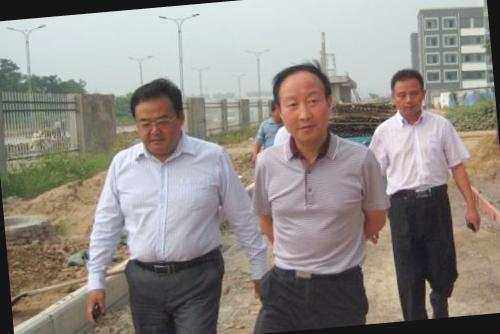no_helmet: (265, 56, 340, 147), (122, 74, 192, 156), (385, 64, 429, 120)
